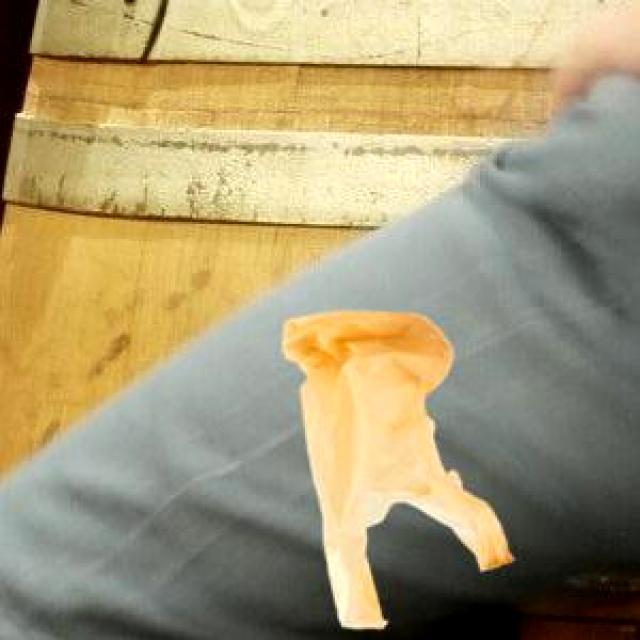Plastic_Bag: (280, 308, 509, 626)
